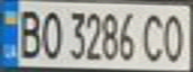2: (84, 8, 103, 61)
3: (63, 7, 87, 61)
6: (118, 8, 142, 62)
8: (100, 8, 121, 61)
B: (12, 6, 45, 60)
C: (139, 9, 172, 62)
O: (157, 10, 190, 63), (36, 7, 66, 61)
